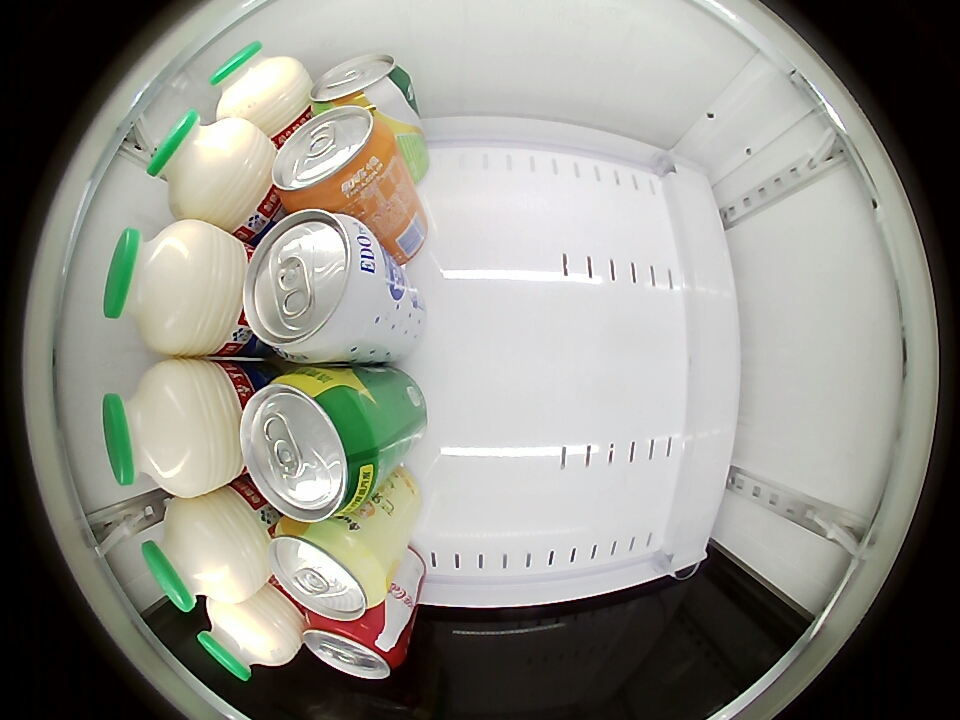fenda: (272, 106, 397, 214)
kele: (302, 615, 406, 679)
liziyuan: (101, 358, 244, 497), (100, 220, 242, 356), (141, 493, 269, 613), (146, 109, 272, 226), (209, 40, 310, 131), (199, 595, 300, 682)
mangguoxiaolao: (270, 521, 390, 623)
quchenshixiangcao: (309, 54, 411, 113)
rusuanjunqishui: (243, 209, 388, 364)
xuebi2: (240, 367, 384, 523)
